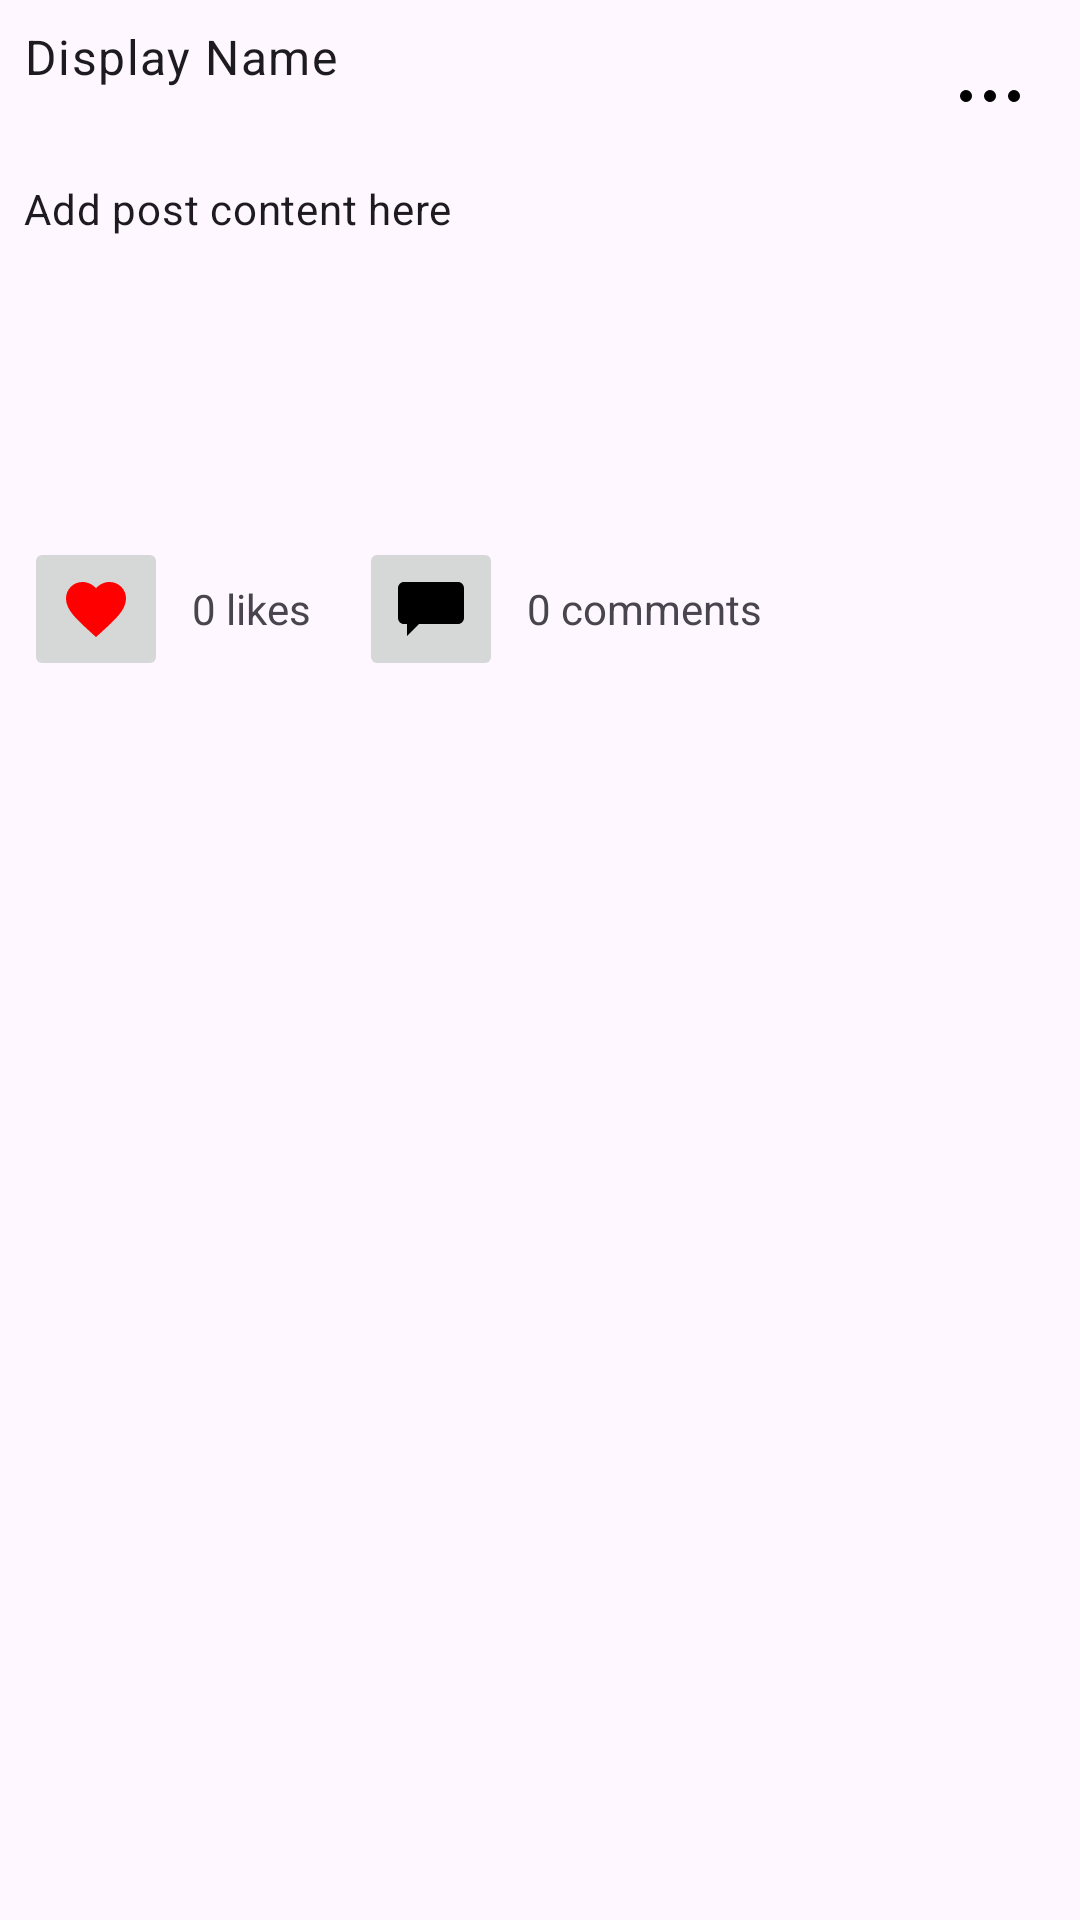

Point at icon controls on the screen. Image size 1080 x 1920, points as point (x, y).
comment button: point (431, 609)
Like Button: point (96, 609)
Post settings: point (990, 96)
